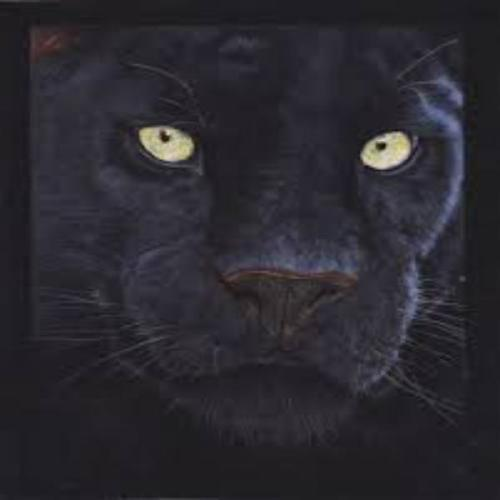panther-endangered: (42, 38, 457, 466)
